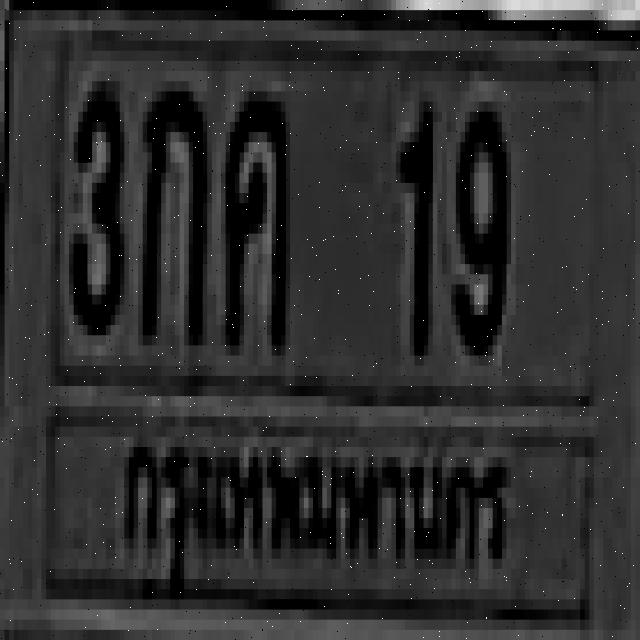1: (396, 92, 428, 346)
10GorGai: (138, 82, 202, 336)
13KhorKhwai: (221, 87, 285, 340)
3: (66, 81, 122, 325)
9: (452, 102, 502, 346)
Bangkok: (111, 410, 530, 620)
